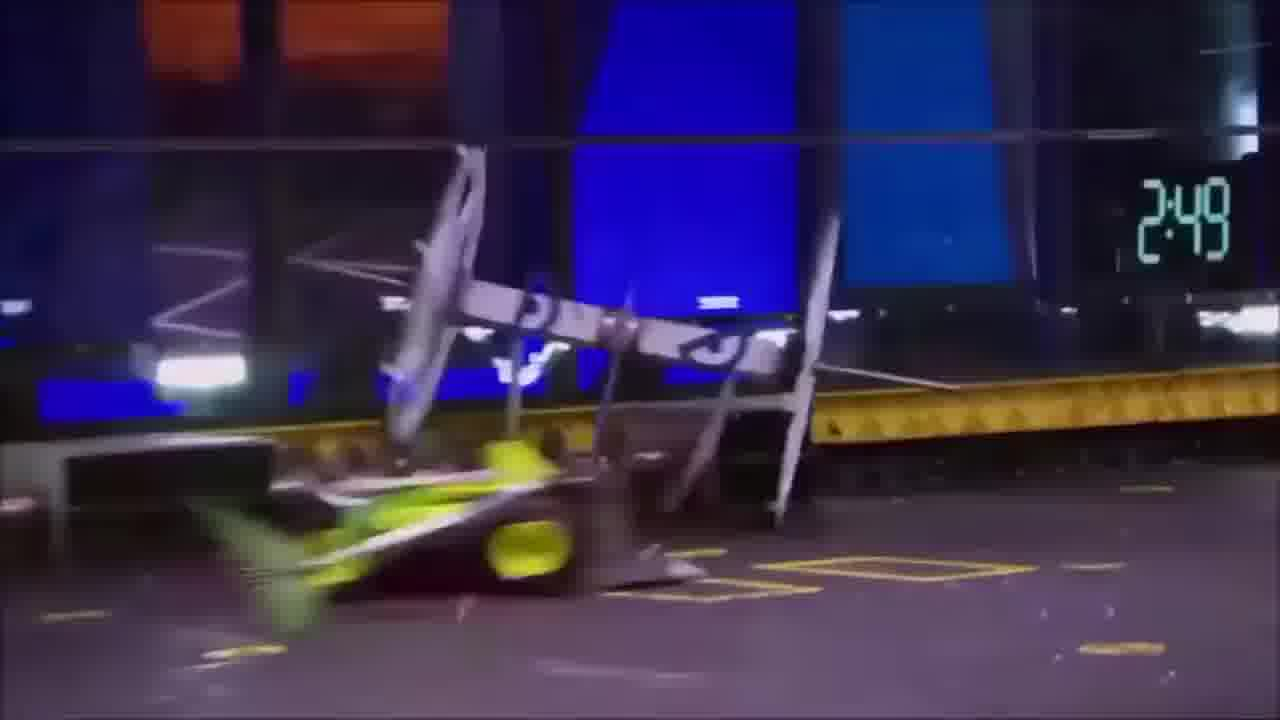combatbot: (380, 151, 841, 523), (193, 439, 698, 643)
